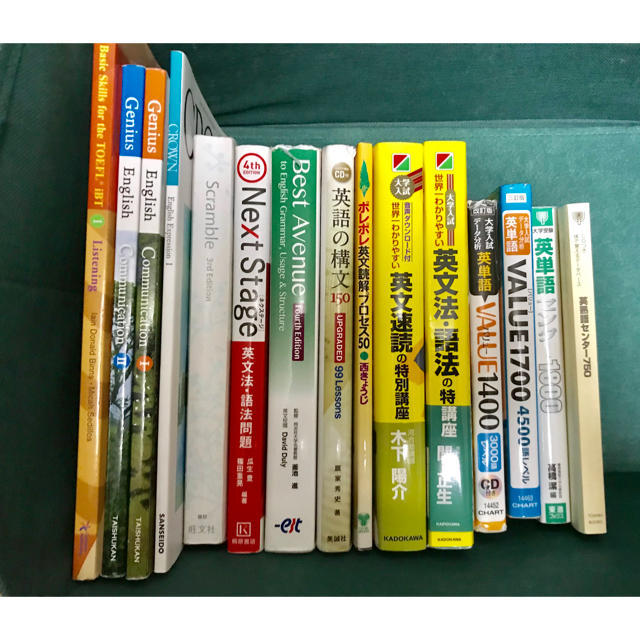book: (367, 138, 429, 555), (418, 135, 471, 553), (268, 139, 318, 555), (226, 140, 272, 556), (187, 128, 230, 546), (313, 142, 353, 555), (464, 195, 510, 533), (354, 139, 374, 554)
